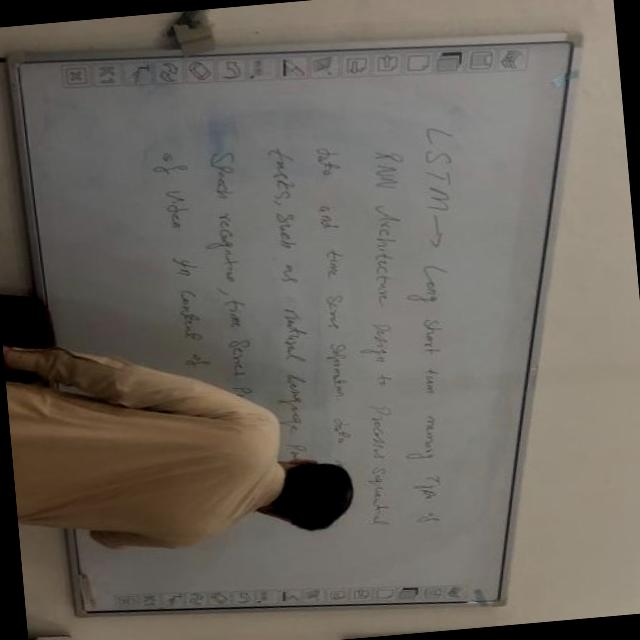Instructor: (22, 358, 374, 564)
White-board: (10, 37, 574, 611)
